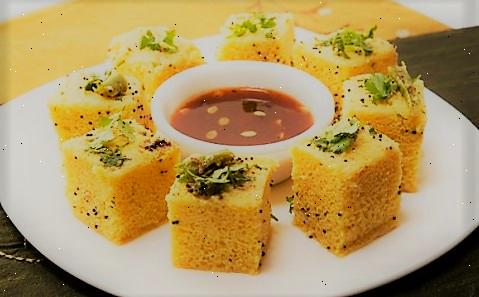yellow dhokla: (64, 114, 177, 247)
